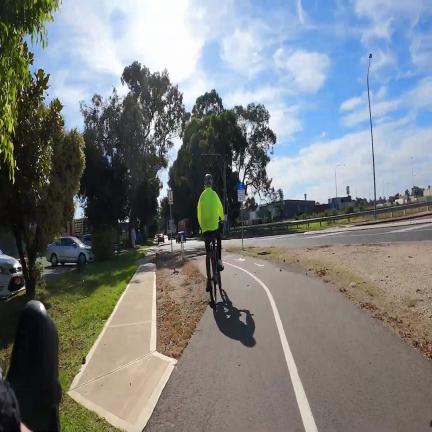Bike_Lane: (145, 251, 432, 432)
Bike_Sign: (237, 182, 246, 201), (168, 190, 173, 205)
